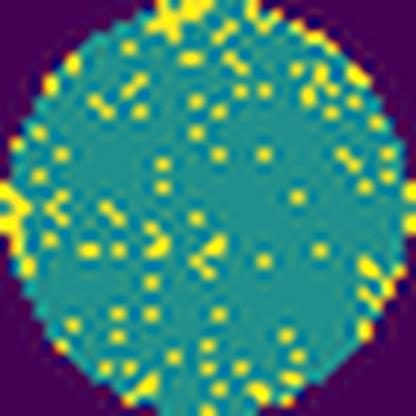Edge-Loc: (0, 172, 38, 276), (148, 0, 215, 44)
